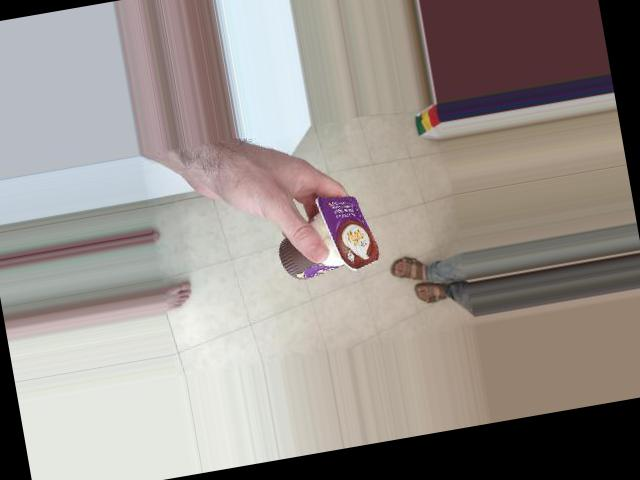milky: (264, 191, 388, 283)
